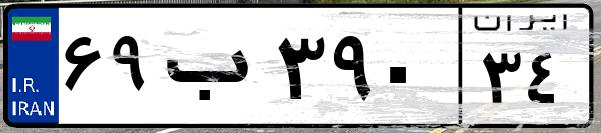0: (385, 28, 445, 110)
3: (270, 28, 330, 110), (475, 38, 525, 113)
4: (525, 38, 570, 115)
6: (57, 26, 110, 100)
9: (330, 28, 385, 110), (110, 28, 158, 98)
ب: (158, 20, 270, 120)
